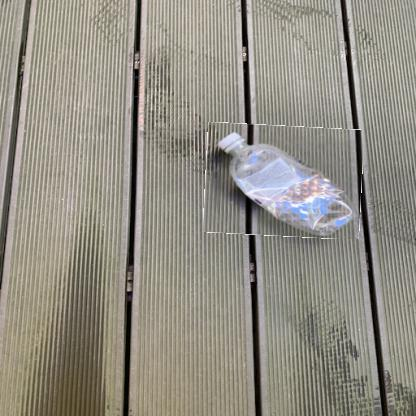plastic-bottles: (205, 124, 363, 238)
